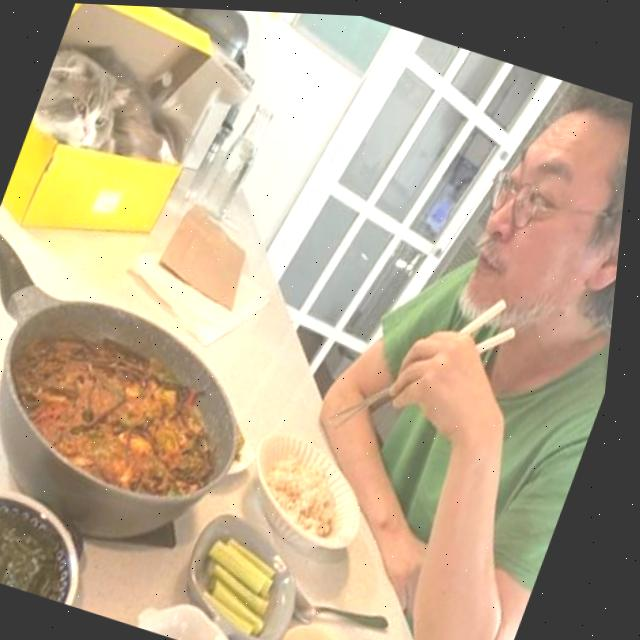eating-person: (193, 20, 639, 640)
